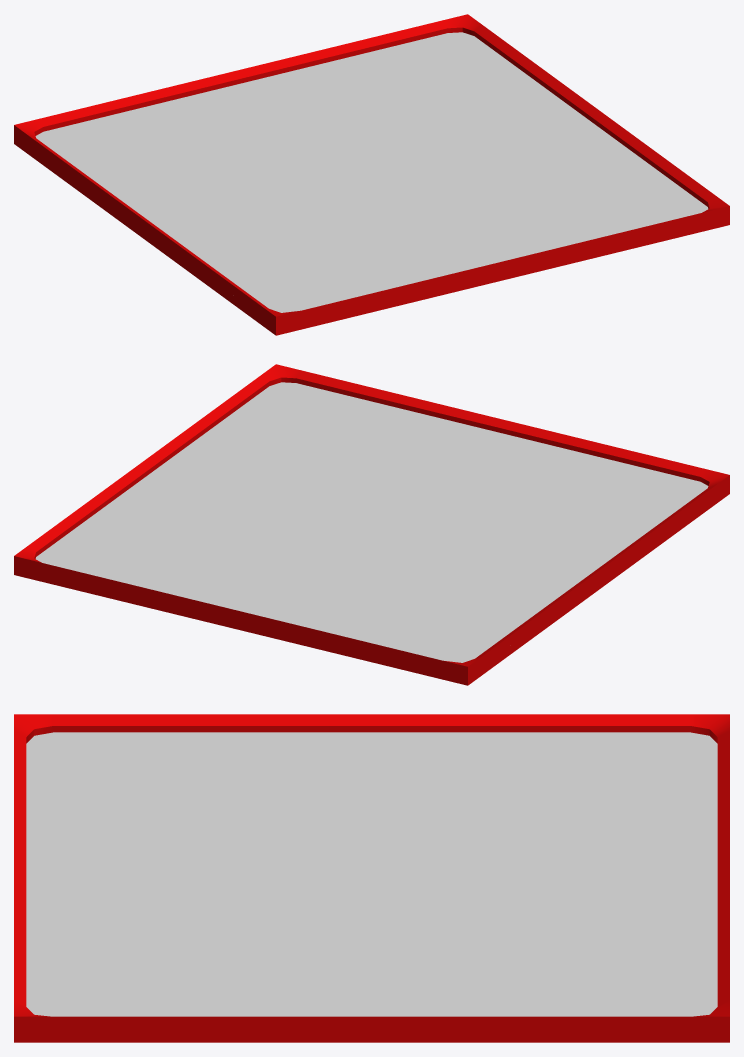
Rendered from window_light_flat_square.fbx.
The picture shows the model from 3 angles, top to bottom: view 1: azimuth 30°, elevation 25°; view 2: azimuth 150°, elevation 25°; view 3: azimuth 270°, elevation 25°; orthographic projection. The views are drawn at different scales.
Parts seen in each view (by area): view 1: Window_light_glass, window_light_frame; view 2: Window_light_glass, window_light_frame; view 3: Window_light_glass, window_light_frame.
Part boxes in pixels (<box>): Window_light_glass: <box>35,32,708,312</box>; window_light_frame: <box>14,14,729,335</box>; Window_light_glass: <box>35,382,708,662</box>; window_light_frame: <box>14,364,729,685</box>; Window_light_glass: <box>26,732,717,1016</box>; window_light_frame: <box>14,714,729,1042</box>.
Bounding box in the file's own units: 100 × 4 × 100.
